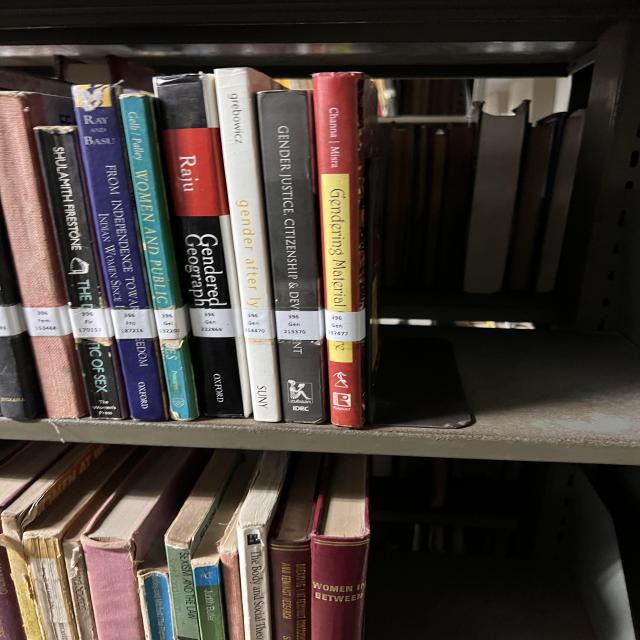Book: (153, 74, 252, 418), (73, 85, 168, 421), (0, 91, 88, 418), (35, 126, 128, 419), (120, 94, 198, 420), (215, 68, 282, 422), (257, 90, 327, 424), (313, 72, 367, 428), (0, 331, 45, 420)
Label: (23, 305, 72, 336), (110, 309, 157, 340), (275, 310, 323, 340), (190, 308, 235, 338), (68, 308, 113, 338), (153, 306, 190, 340), (325, 310, 365, 341), (242, 310, 275, 339)
